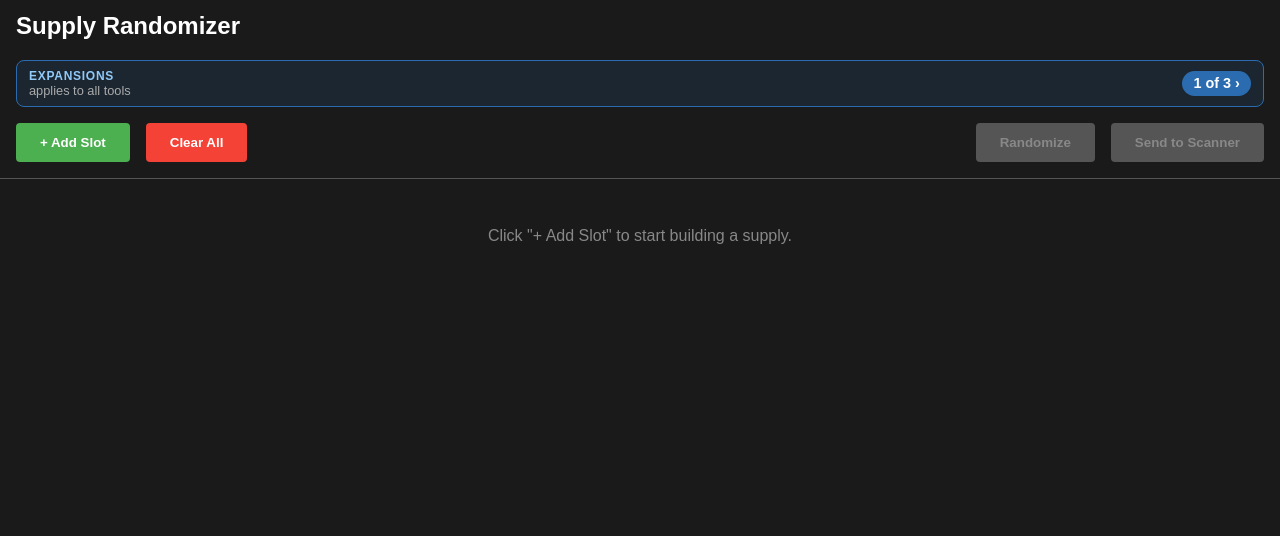
Scenario: SupplyRandomizerScreen › mentions the Expansions setting when the owned pool cannot satisfy the slots
Three "any" slots but only two owned cards (Jade, Ruby)
Click the button "+ Add Slot": coordinates (73, 142) [16,123,130,162]
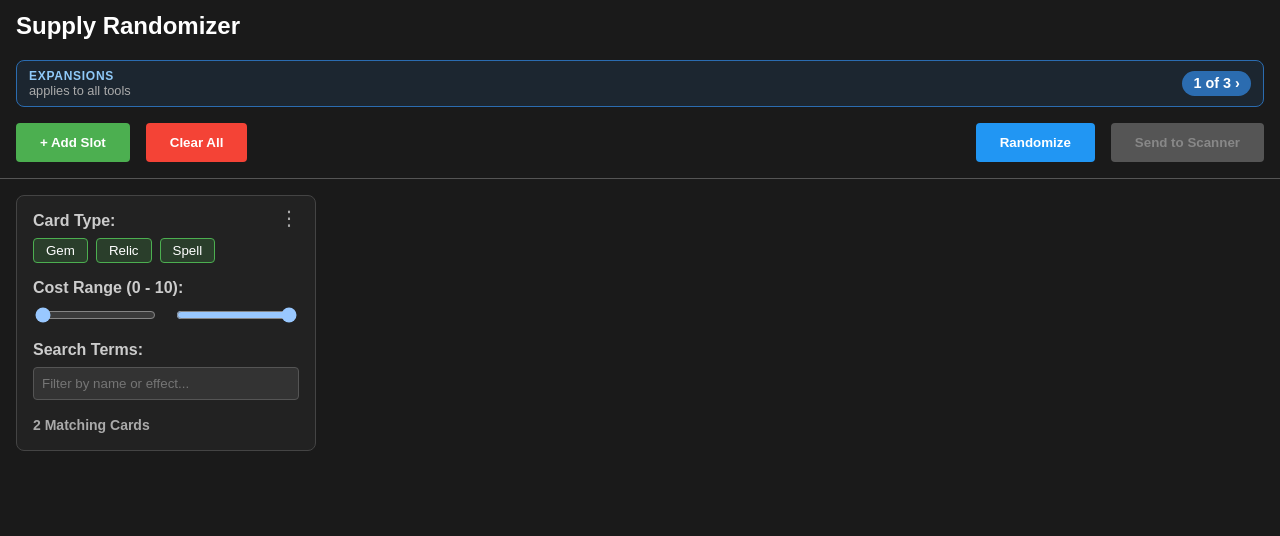
Click the button "+ Add Slot": coordinates (73, 142) [16,123,130,162]
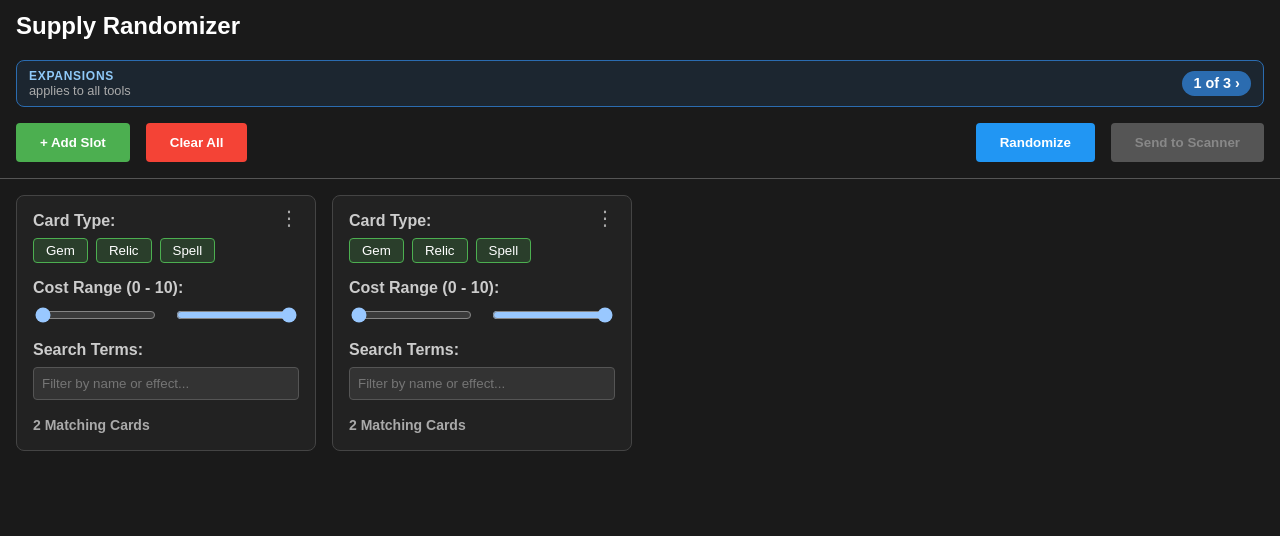
Click the button "+ Add Slot": coordinates (73, 142) [16,123,130,162]
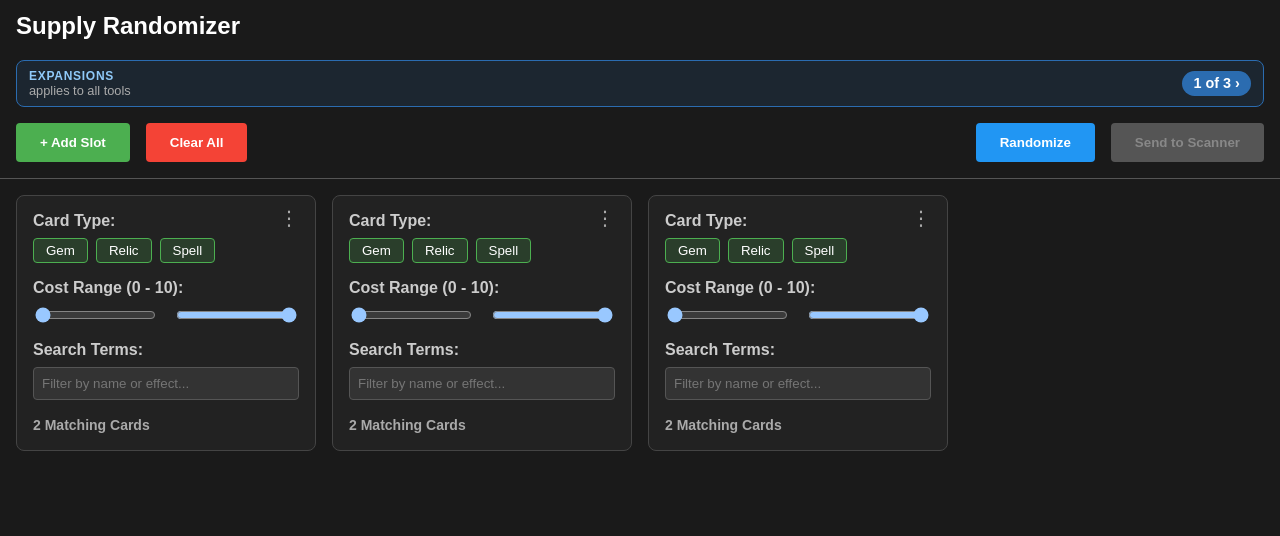
Expected: the button "Randomize" is enabled
Click the button "Randomize": coordinates (1035, 142) [976,123,1095,162]
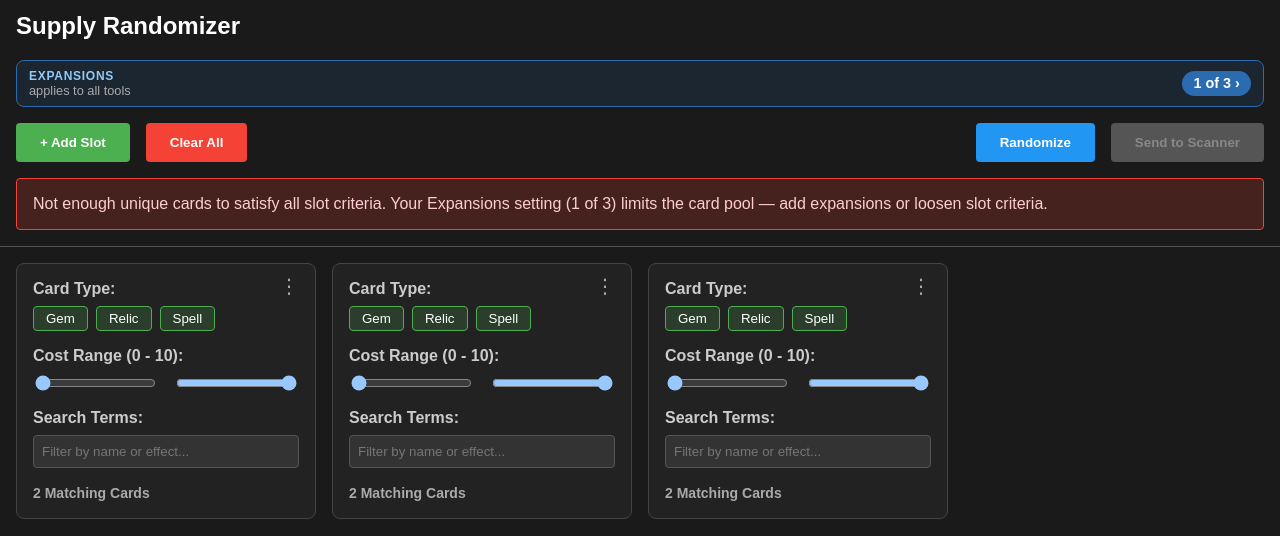
Expected: the text "Your Expansions setting (1 of 3) limits the card pool" is shown, [33,195,1048,212]
